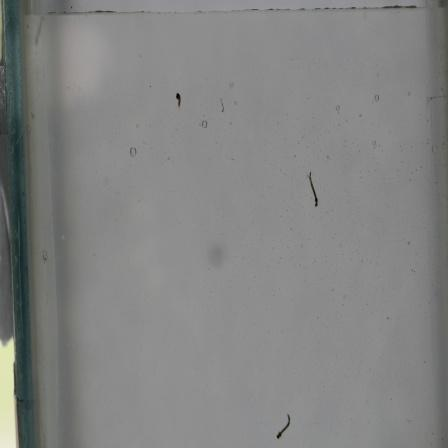Jentik-Nyamuk: (303, 168, 323, 210), (273, 408, 294, 442), (171, 88, 186, 113)
